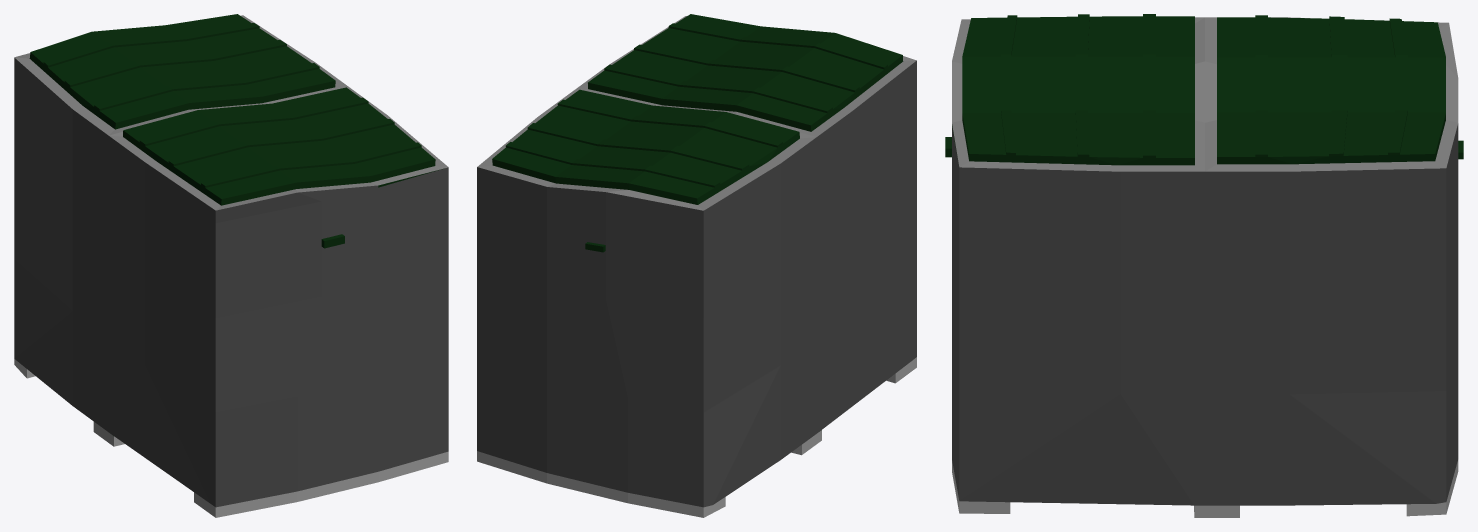
Rendered from Trashcan.fbx.
3 views of the same model, side by side, from view 1: azimuth 30°, elevation 25°; view 2: azimuth 150°, elevation 25°; view 3: azimuth 270°, elevation 25° (orthographic). The views are drawn at different scales.
Visible parts, largest first — view 1: Cube; view 2: Cube; view 3: Cube.
Boxes of the visible parts, bbox=[...] form: Cube: bbox=[14, 14, 448, 517]; Cube: bbox=[477, 14, 916, 517]; Cube: bbox=[945, 14, 1463, 517].
Size of the model in its own units: 1.42 by 1.76 by 2.22.
